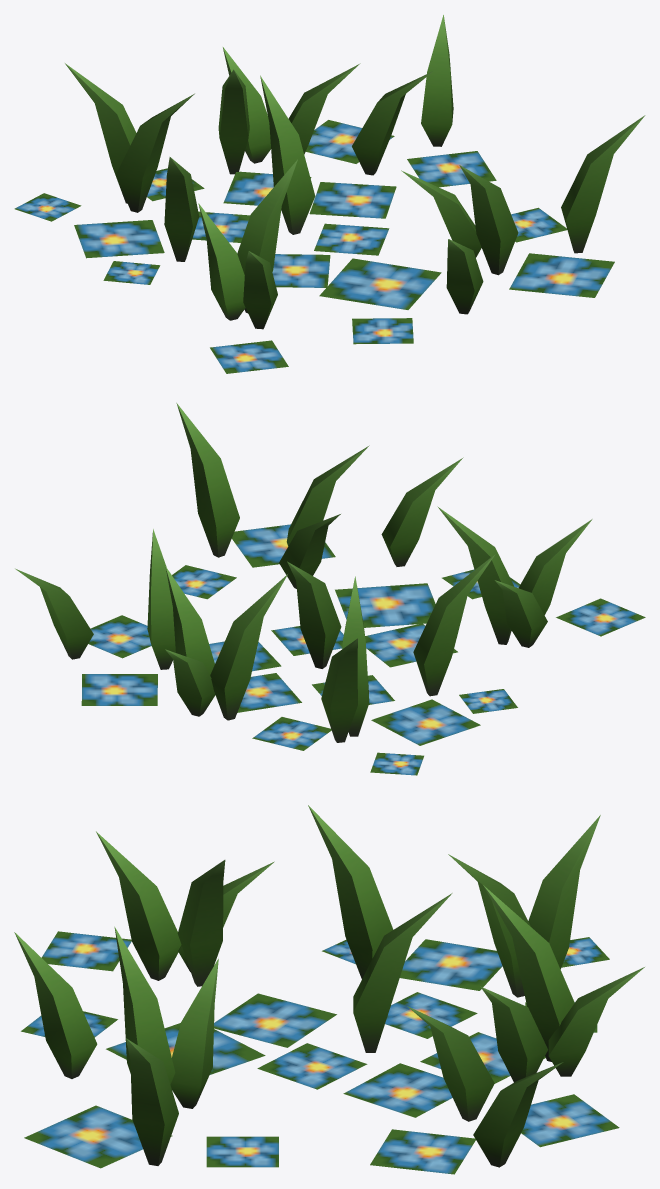
Rendered from deco_flowersSmall_blue.FBX.
3 renders of one model, top to bottom at view 1: azimuth 30°, elevation 25°; view 2: azimuth 150°, elevation 25°; view 3: azimuth 270°, elevation 25°, orthographic. The views are drawn at different scales.
Parts seen in each view (by area): view 1: deco_flowersSmall_blue; view 2: deco_flowersSmall_blue; view 3: deco_flowersSmall_blue.
Part boxes in pixels (x1,y1,x2,y2): deco_flowersSmall_blue: (14,15,645,373); deco_flowersSmall_blue: (15,403,645,775); deco_flowersSmall_blue: (14,805,644,1174).
Size of the model in its own units: 1.94 by 0.5481 by 1.98.
Materials: 1 (1 with a texture image).
